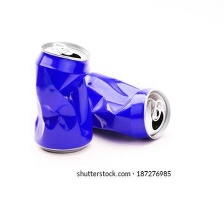can: (23, 38, 96, 155), (76, 67, 180, 142)
